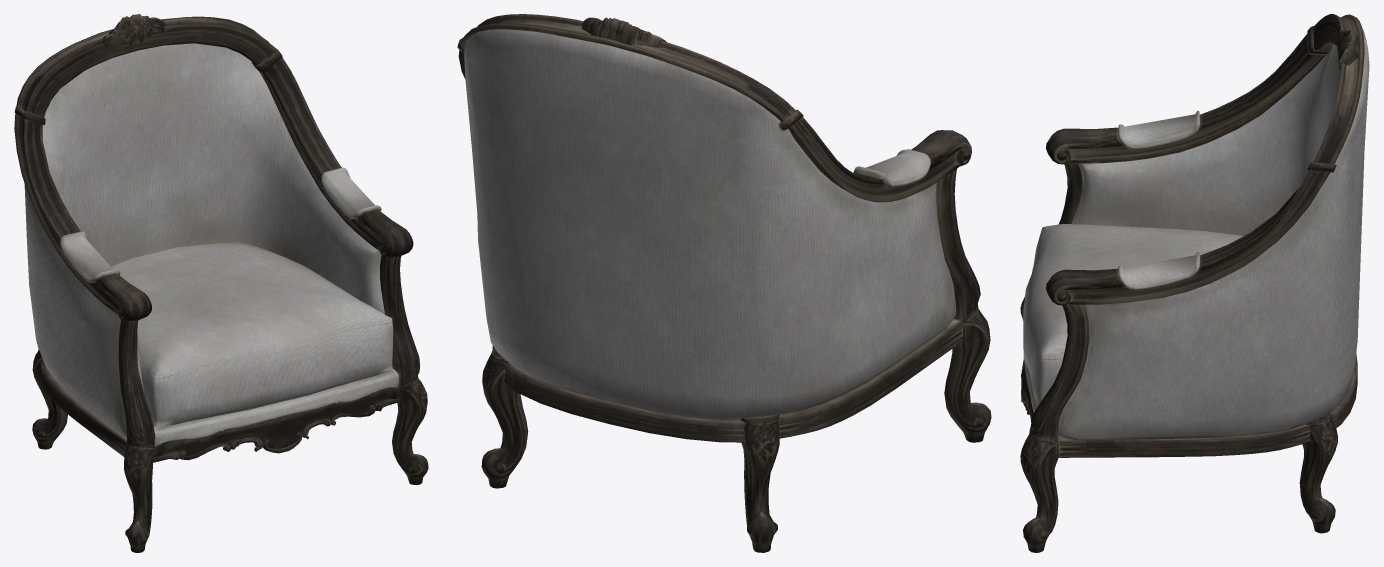
The model's file is ArmChair_01.glb.
The picture shows the model from 3 angles, left to right: view 1: azimuth 30°, elevation 25°; view 2: azimuth 150°, elevation 25°; view 3: azimuth 270°, elevation 25°; orthographic projection. The views are drawn at different scales.
Parts seen in each view (by area): view 1: ArmChair_01; view 2: ArmChair_01; view 3: ArmChair_01.
Part boxes in pixels (x1=…): ArmChair_01: x1=14, y1=14, x2=428, y2=552; ArmChair_01: x1=457, y1=14, x2=991, y2=552; ArmChair_01: x1=1020, y1=14, x2=1369, y2=552.
Size of the model in its own units: 0.8484 by 1.07 by 0.7658.
1 material, 1 textured.
